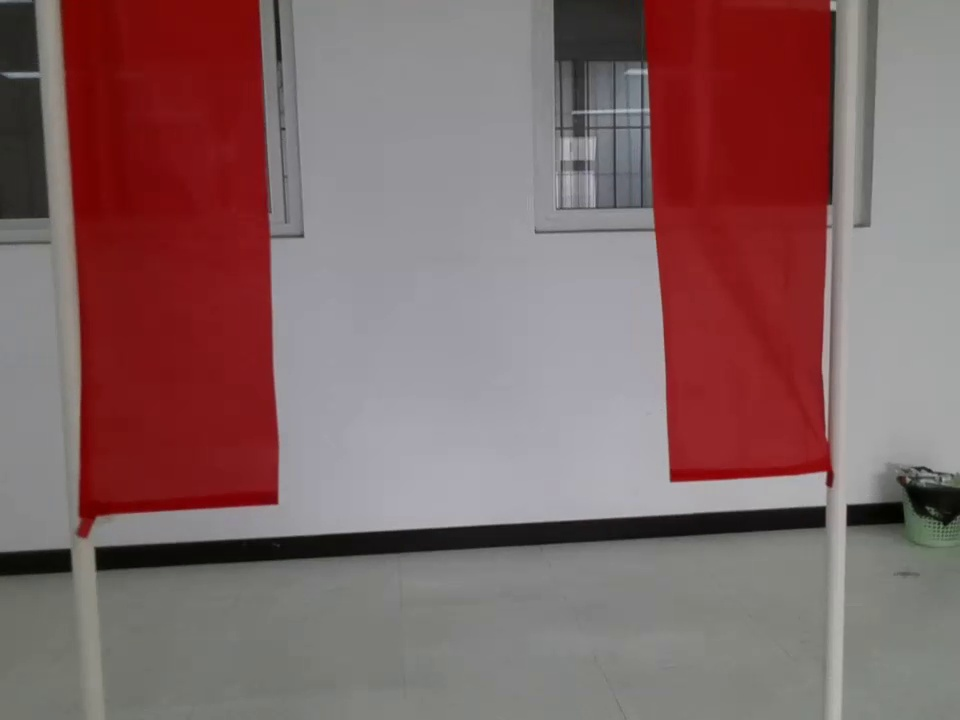qi: (16, 1, 284, 555), (605, 1, 880, 505)
